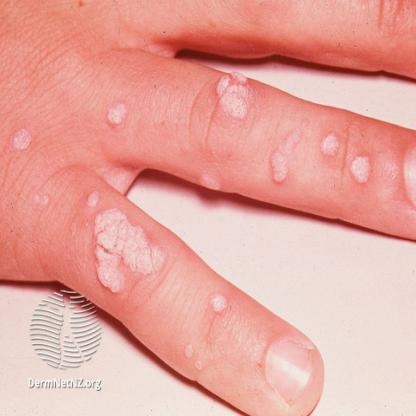Warts: (96, 200, 169, 304), (211, 57, 258, 128), (100, 92, 133, 139), (264, 144, 293, 191), (7, 122, 36, 158), (350, 148, 372, 190), (317, 127, 344, 161), (80, 182, 104, 212), (210, 289, 230, 321), (182, 336, 198, 362), (192, 356, 206, 375)
